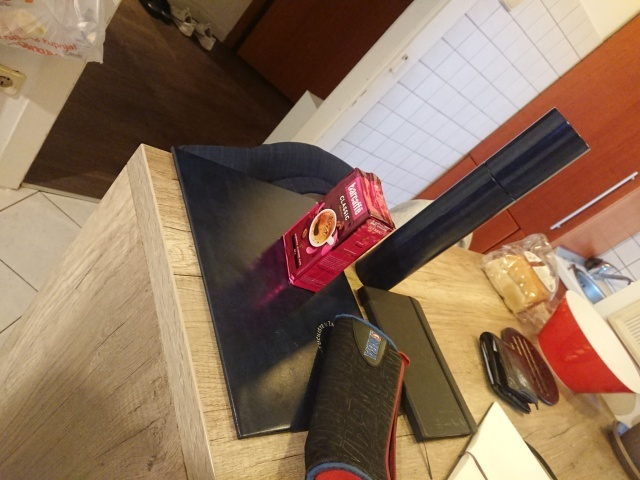Barcaffe Classic Original 225g: (279, 166, 398, 296)
